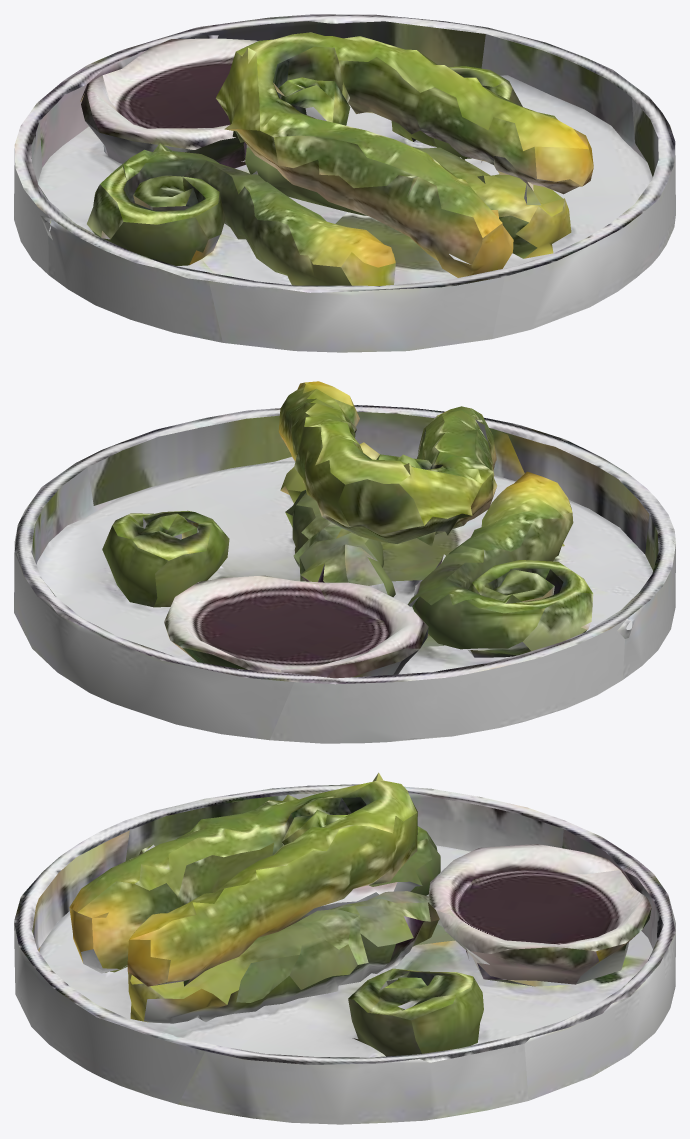
File: fiddlehead_tempura.glb
3 renders of one model, top to bottom at view 1: azimuth 30°, elevation 25°; view 2: azimuth 150°, elevation 25°; view 3: azimuth 270°, elevation 25°, orthographic.
Parts seen in each view (by area): view 1: fiddlehead_tempura_b; view 2: fiddlehead_tempura_b; view 3: fiddlehead_tempura_b.
Part boxes in pixels (x1,y1,x2,y2): fiddlehead_tempura_b: [14, 14, 675, 352]; fiddlehead_tempura_b: [14, 381, 675, 743]; fiddlehead_tempura_b: [14, 772, 675, 1124].
Size of the model in its own units: 1 by 0.287 by 0.992.
Materials: 1 (1 with a texture image).
